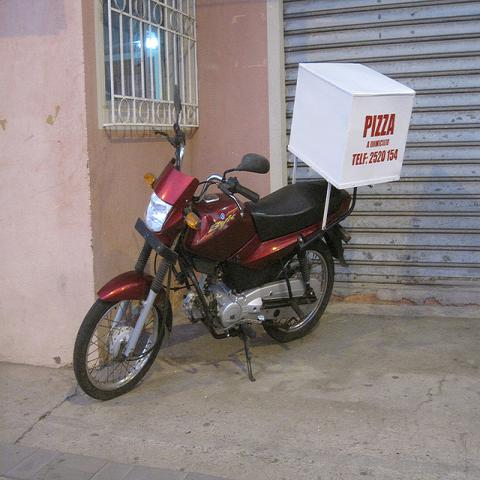motorcycle: (74, 74, 356, 403)
